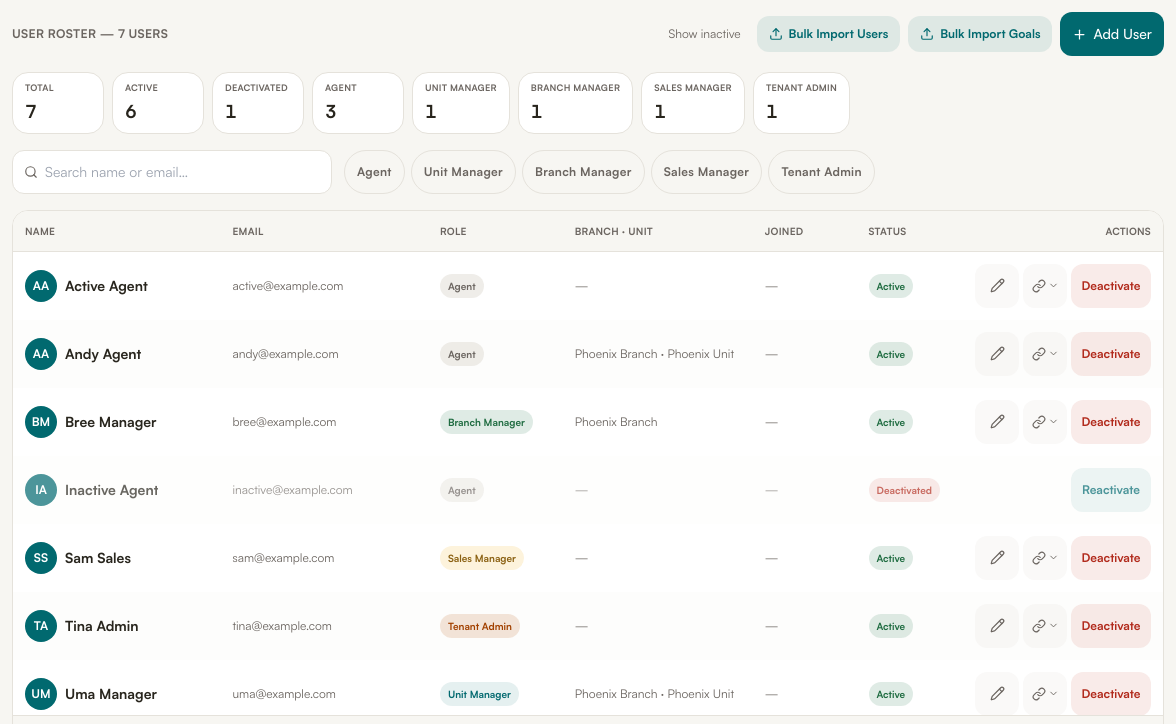
Test case: UserManagementPanel — roster v2 (Tier-4 #17: stat strip, search, role filters, RoleChip, Branch·Unit) › multiple role filter chips compose with OR (any selected role shows)
Expected: the text "Andy Agent" is shown, left=65, top=344, right=141, bottom=364
What coordinates should you click on to do the following:
click the button with test id "role-filter-sales_manager"
I would click on:
 (707, 172)
Its box is left=651, top=150, right=762, bottom=194.
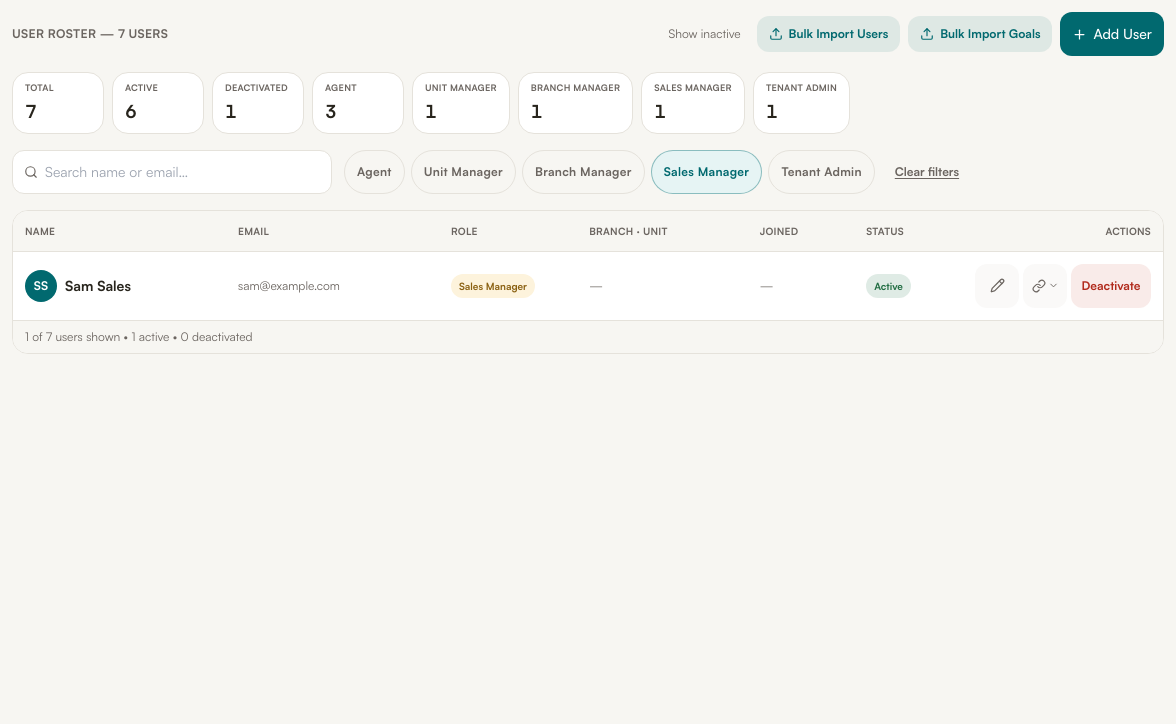
What coordinates should you click on to do the following:
click the button with test id "role-filter-tenant_admin"
I would click on:
 (822, 172)
Its box is left=768, top=150, right=875, bottom=194.
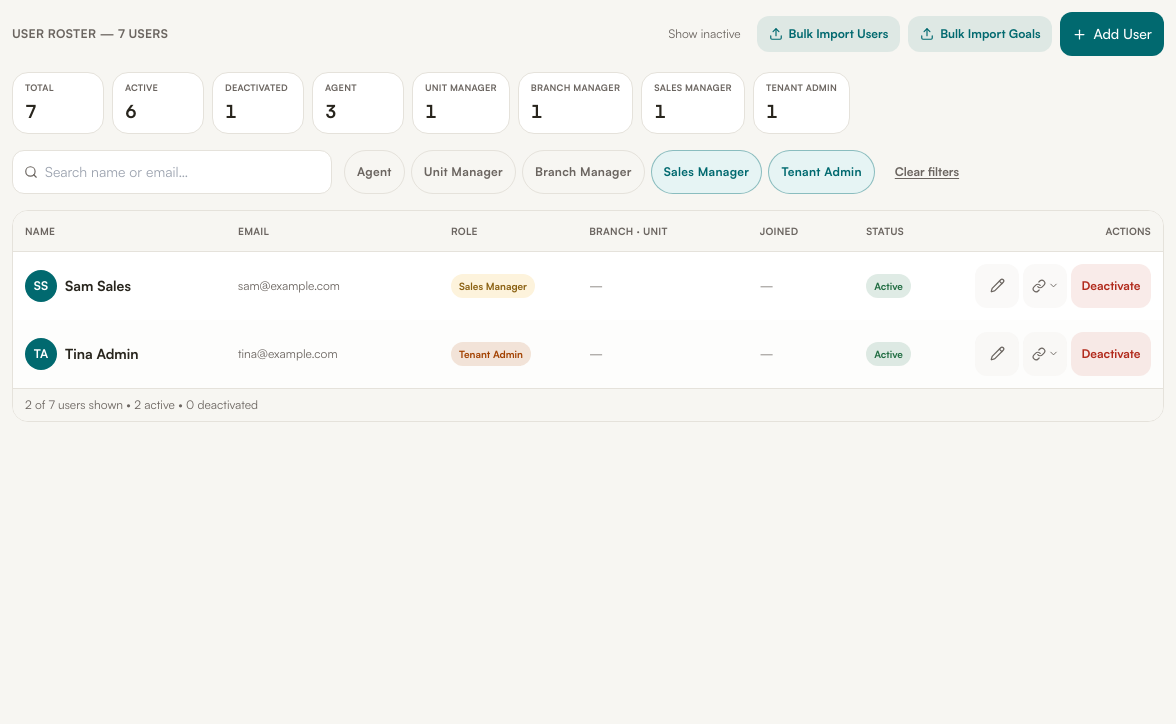
Expected: the text "Sam Sales" is shown, left=65, top=276, right=131, bottom=296
Expected: the text "Tina Admin" is shown, left=65, top=344, right=138, bottom=364
